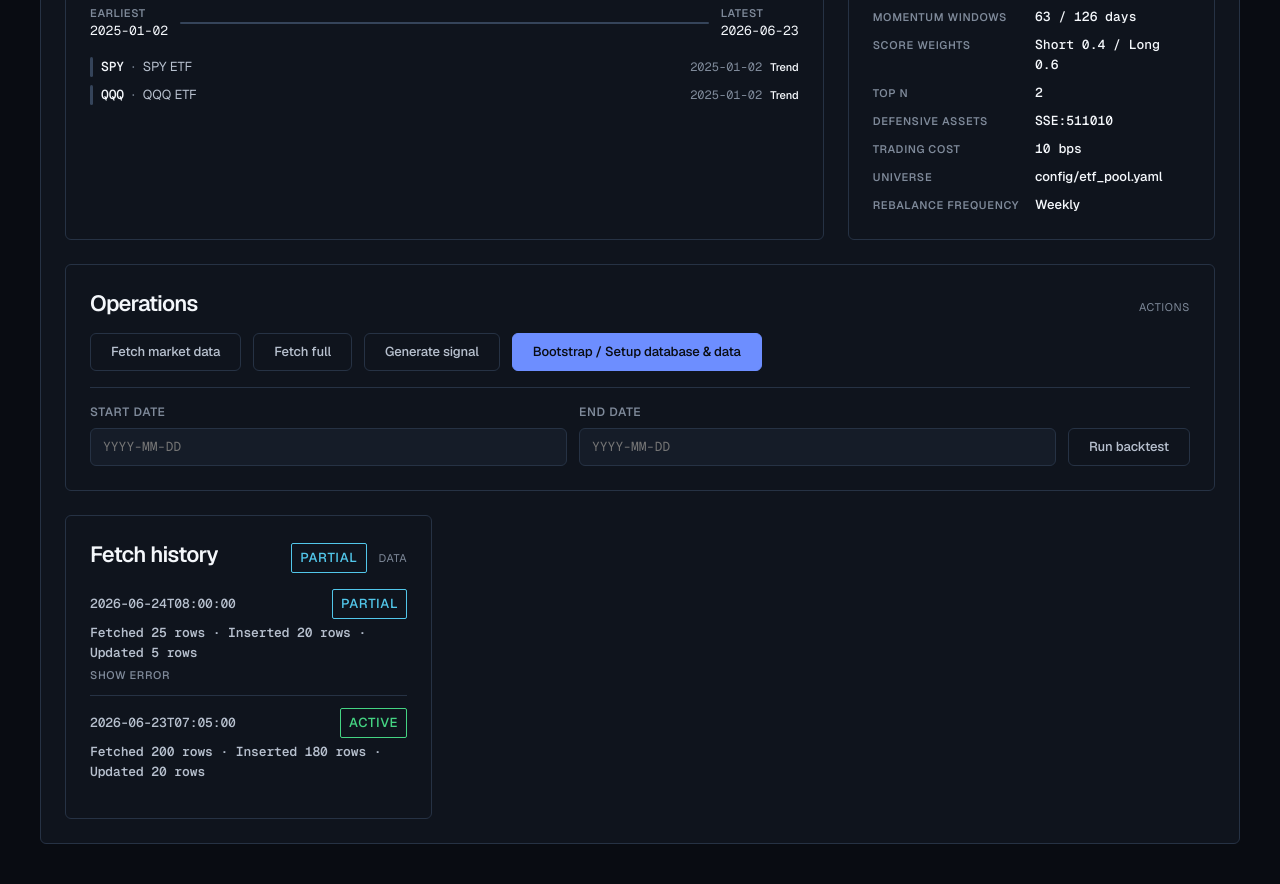
Test: clears a prior Dashboard backtest summary when a later run fails
The width and height of the screenshot is (1280, 884).
(page scrolled)
Type "2026-01-01" into the field labelled "Start date" at (328, 447), box [90,428,567,466]
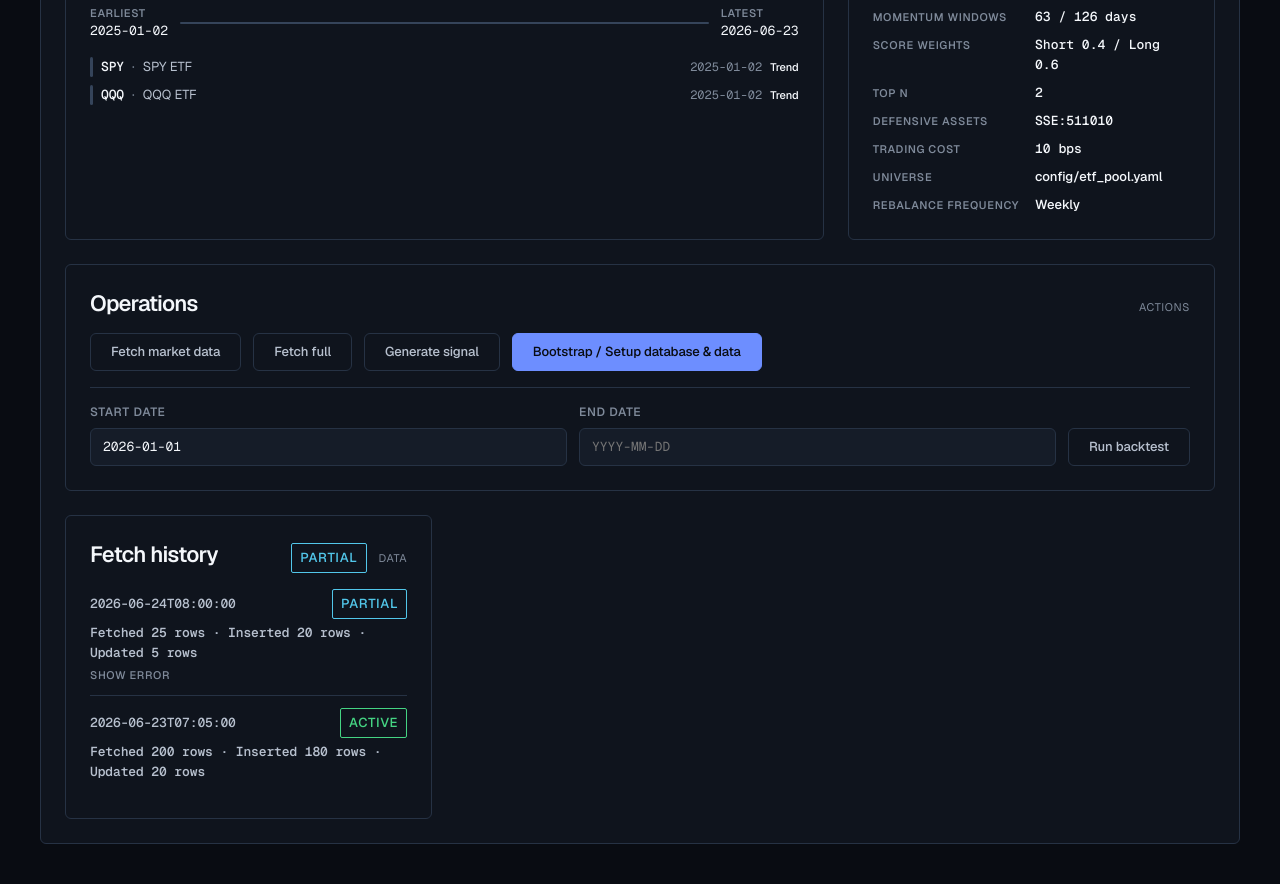
Type "2026-01-31" into the field labelled "End date" at (818, 447), box [579,428,1056,466]
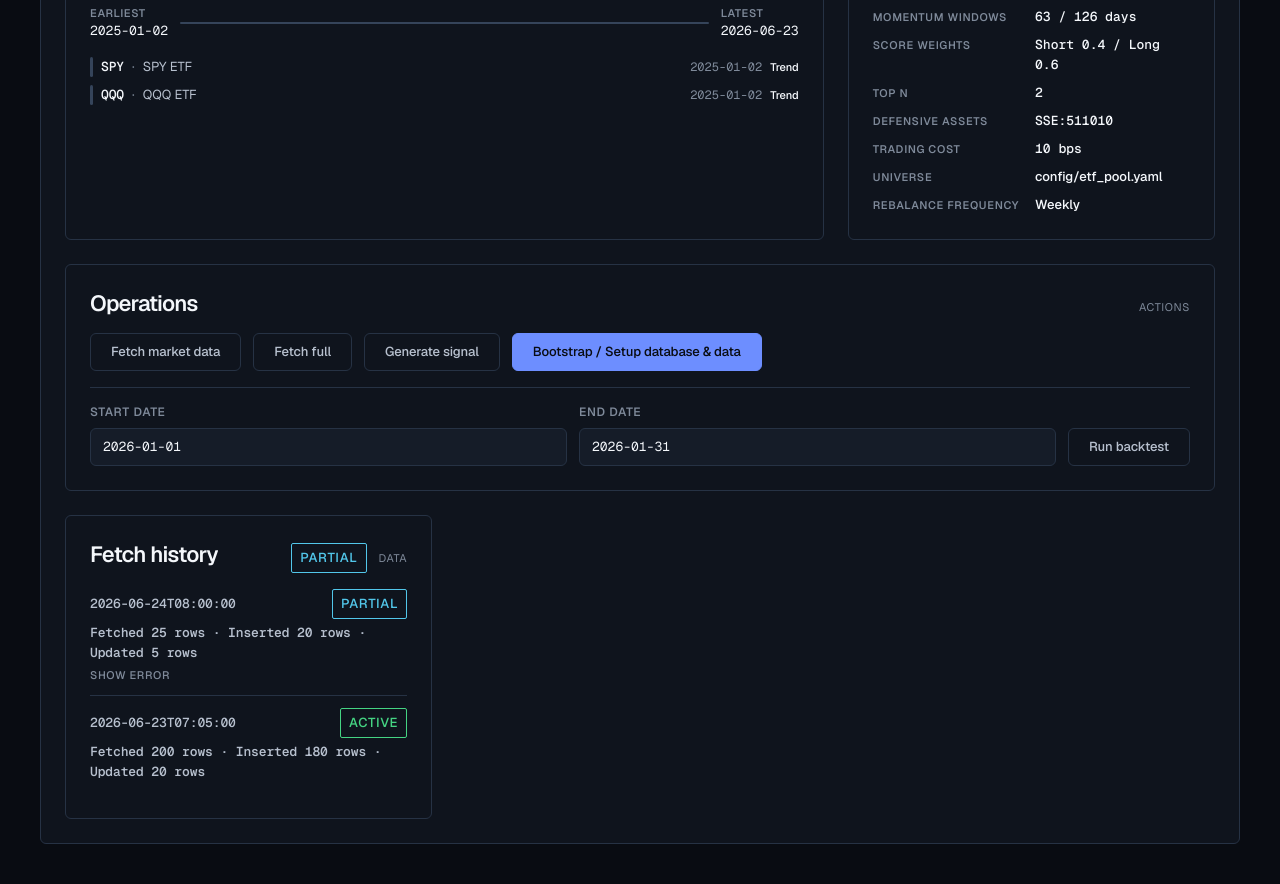
Click the button "Run backtest" at (1129, 447), box [1068,428,1190,466]
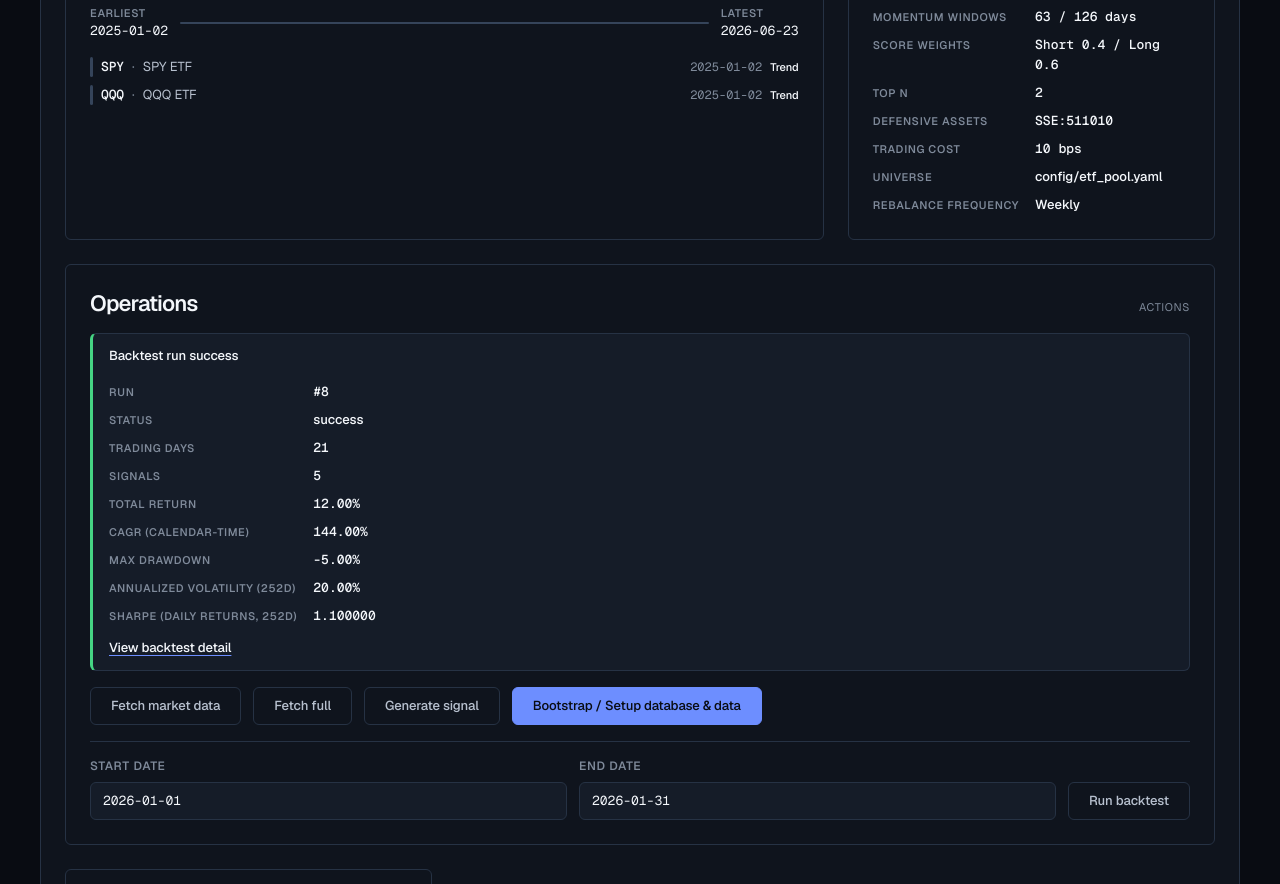
Result: the text "Backtest run success" is shown at [109,347,238,364]
Click the button "Run backtest" at (1129, 801), box [1068,782,1190,820]
(page scrolled)
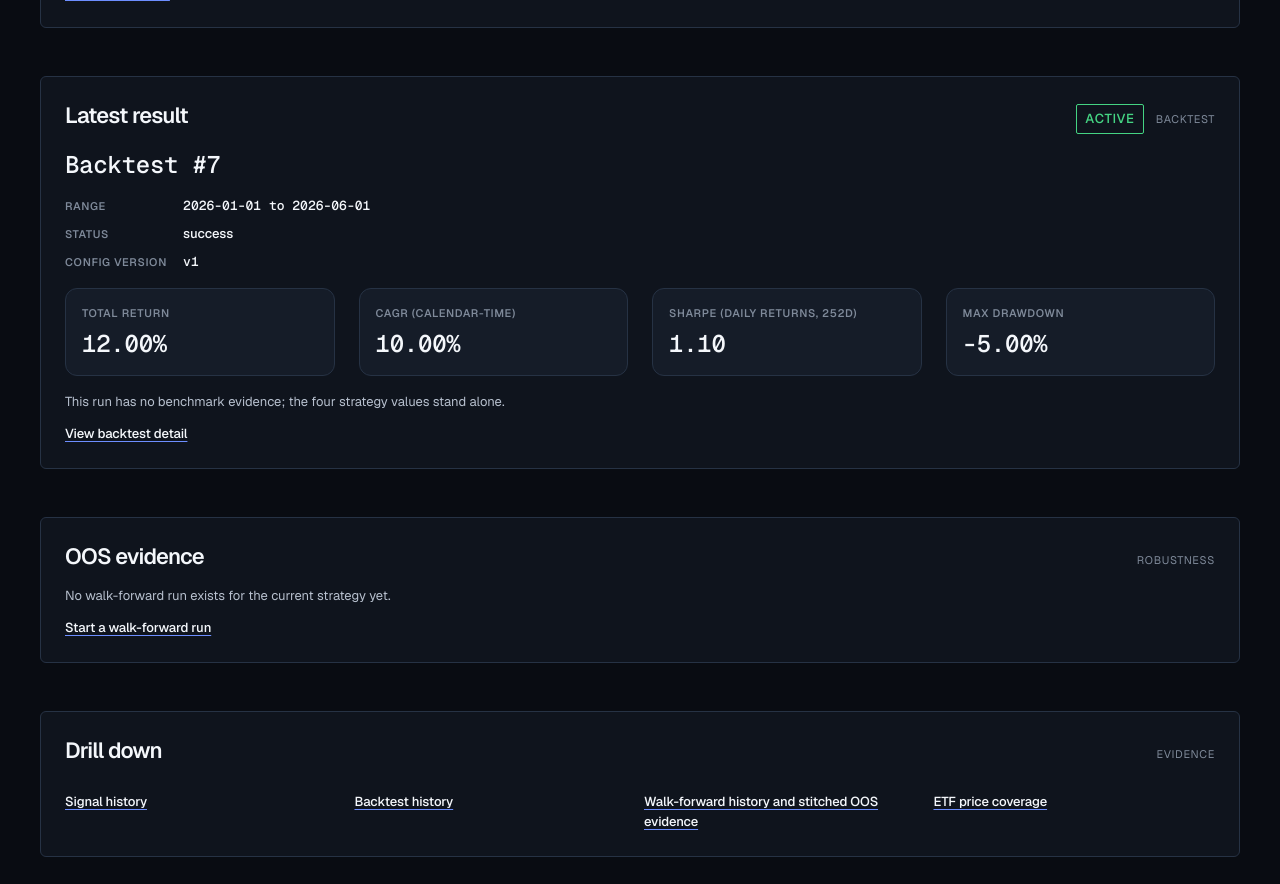
Expected: the element with test id "workflow-panel-backtest" is shown, [40,76,1240,469]
Result: the text "Backtest run success" is gone
